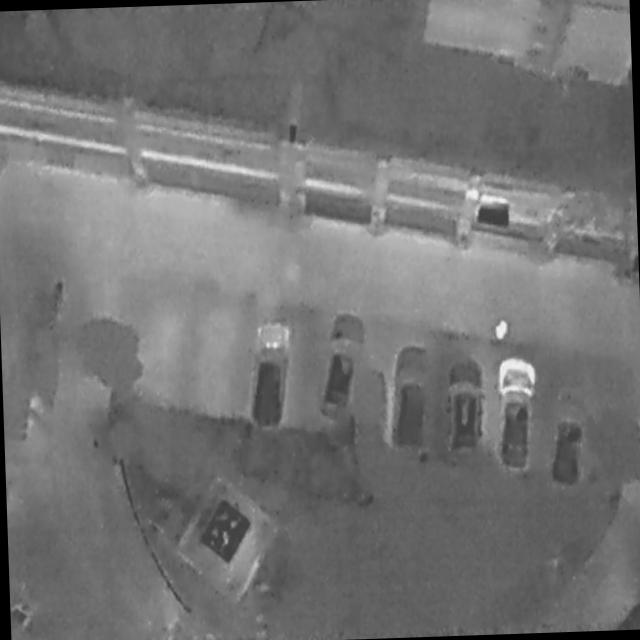person: (491, 316, 510, 344)
